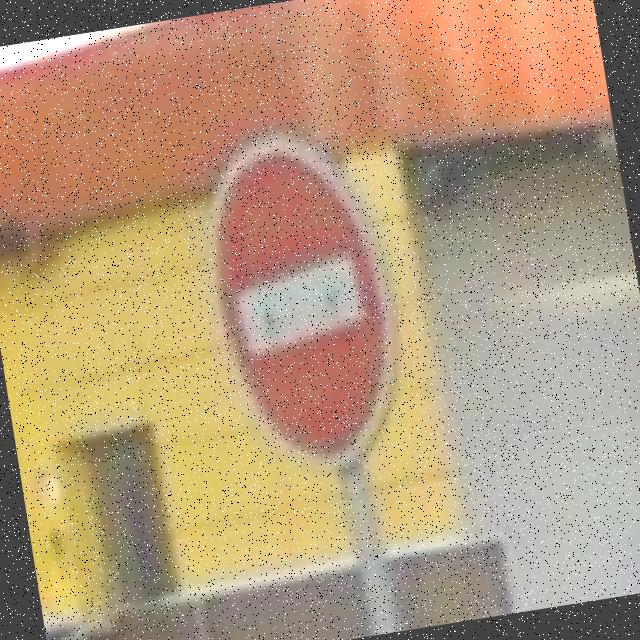Zakaz wjazdu: (190, 119, 418, 482)
